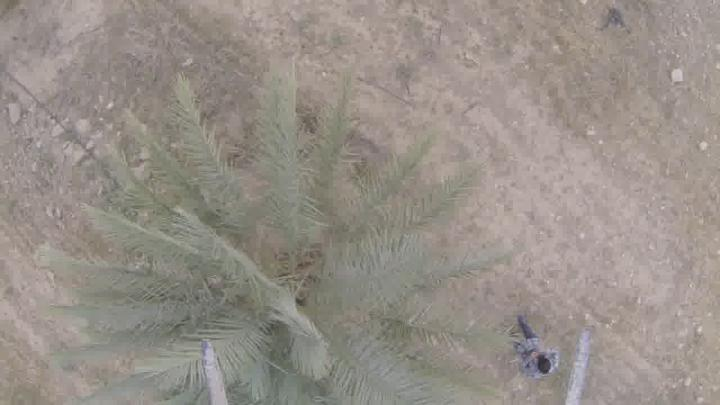Date-Palm-Crown: (151, 157, 409, 405)
